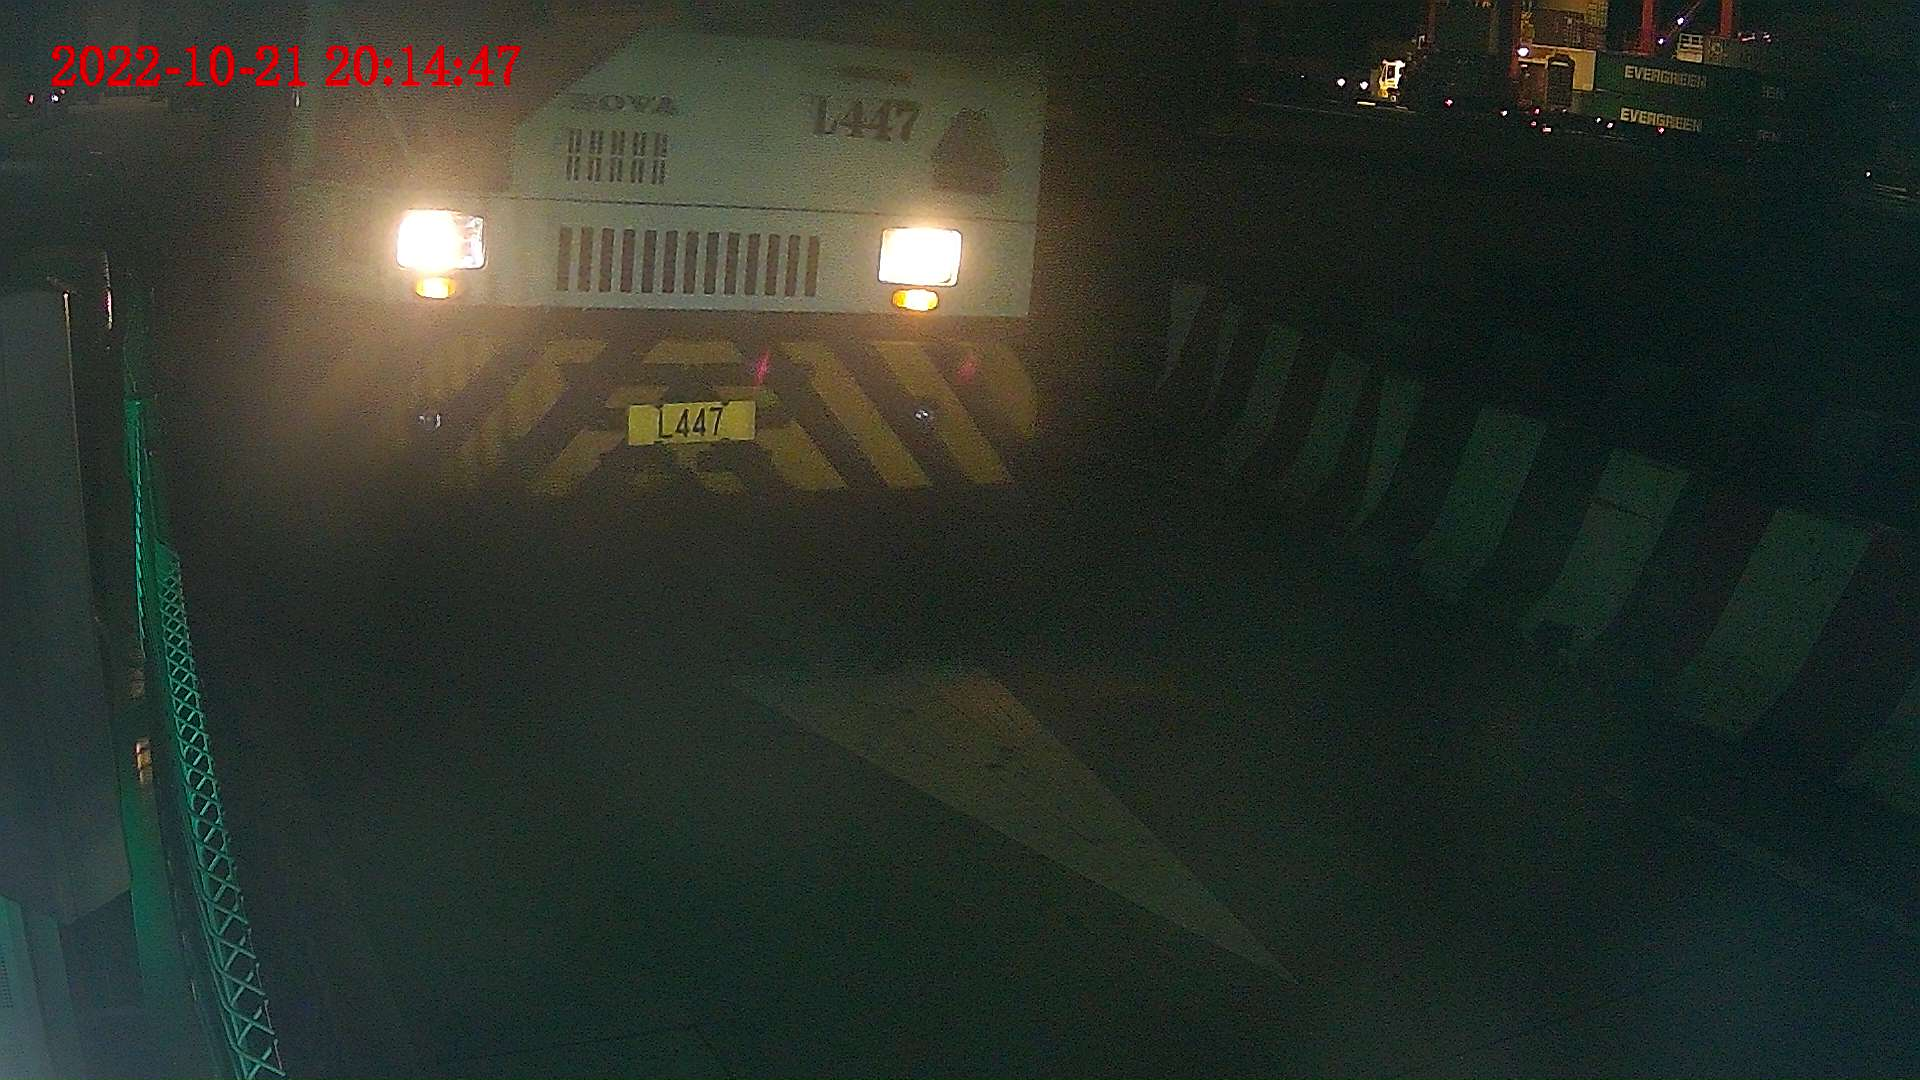head: (210, 1, 1047, 522)
plate: (630, 402, 756, 435)
